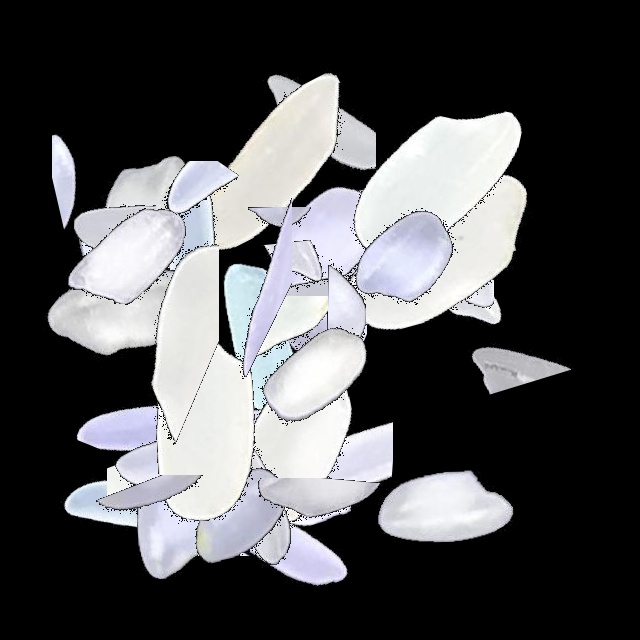Broken: (205, 6, 376, 256), (65, 308, 315, 479), (102, 386, 265, 636), (215, 193, 367, 443), (244, 332, 393, 582), (334, 145, 479, 395), (80, 201, 219, 451), (19, 102, 156, 352), (107, 390, 243, 640), (26, 213, 276, 346), (336, 111, 464, 361), (193, 478, 443, 602), (168, 143, 292, 393), (457, 197, 579, 447), (48, 475, 298, 589), (52, 50, 162, 300), (327, 184, 437, 434), (76, 161, 326, 266), (235, 168, 337, 418), (187, 296, 437, 397), (397, 177, 494, 427), (150, 207, 400, 302), (316, 150, 402, 400), (133, 479, 383, 556)
Full: (13, 94, 263, 344), (311, 131, 561, 381), (40, 390, 290, 640), (140, 218, 390, 468), (0, 145, 250, 395), (144, 42, 394, 292), (127, 390, 377, 640), (122, 356, 372, 606), (65, 132, 315, 382), (95, 390, 345, 640), (0, 185, 250, 435), (51, 390, 301, 640), (78, 325, 328, 575), (219, 153, 469, 403), (277, 113, 527, 363), (159, 328, 409, 578), (316, 130, 566, 380), (202, 114, 452, 364), (312, 59, 562, 309), (0, 129, 250, 379), (124, 373, 374, 623), (116, 390, 366, 640), (80, 290, 330, 540), (189, 248, 439, 498), (282, 132, 532, 382), (319, 380, 569, 630)
